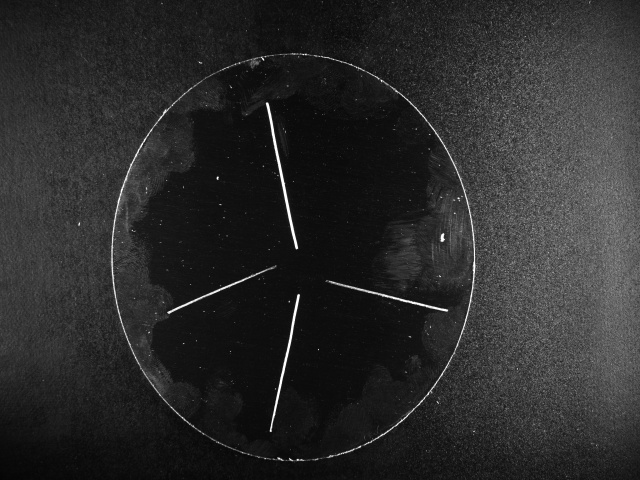ca_shang: (252, 94, 296, 252), (266, 290, 310, 439), (163, 262, 280, 315), (323, 274, 454, 318)
